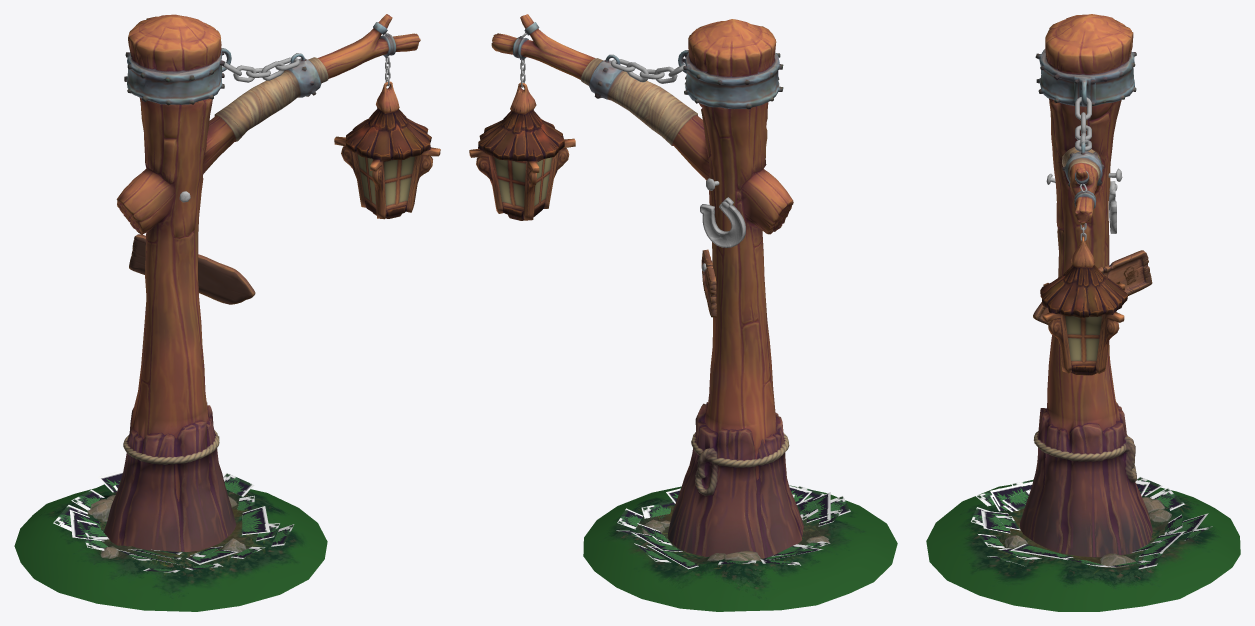
File: LampPost.fbx
The picture shows the model from 3 angles, left to right: view 1: azimuth 30°, elevation 25°; view 2: azimuth 150°, elevation 25°; view 3: azimuth 270°, elevation 25°; orthographic projection.
Parts seen in each view (by area): view 1: LampPost_NewUV, Ground, Lantern, Grass, Sign, Chains; view 2: LampPost_NewUV, Ground, Lantern, Grass, Horseshoe, Chains, Sign; view 3: LampPost_NewUV, Ground, Lantern, Grass, Sign, Chains.
Boxes of the visible parts, x1,y1,x2,y2 form: LampPost_NewUV: [103, 14, 420, 551]; Ground: [14, 484, 327, 611]; Lantern: [334, 81, 440, 219]; Grass: [53, 470, 294, 572]; Sign: [129, 234, 255, 304]; Chains: [223, 32, 390, 86]; LampPost_NewUV: [491, 14, 803, 558]; Ground: [583, 485, 897, 611]; Lantern: [469, 82, 575, 220]; Grass: [616, 474, 850, 569]; Horseshoe: [700, 197, 745, 247]; Chains: [520, 33, 685, 87]; Sign: [701, 249, 716, 317]; LampPost_NewUV: [1020, 14, 1152, 557]; Ground: [926, 479, 1240, 611]; Lantern: [1040, 237, 1127, 375]; Grass: [971, 476, 1212, 569]; Sign: [1033, 250, 1152, 324]; Chains: [1075, 97, 1091, 240].
Bounding box in the file's own units: 35.21 × 45.36 × 24.33.
Materials: 8 (8 with a texture image).
